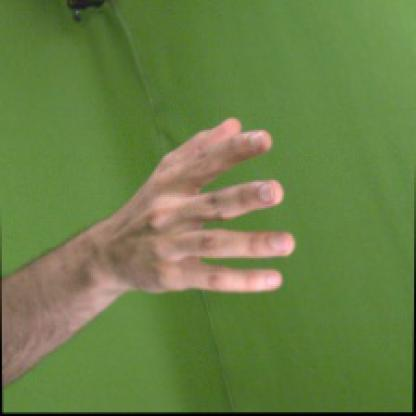Hand: (100, 117, 295, 294)
